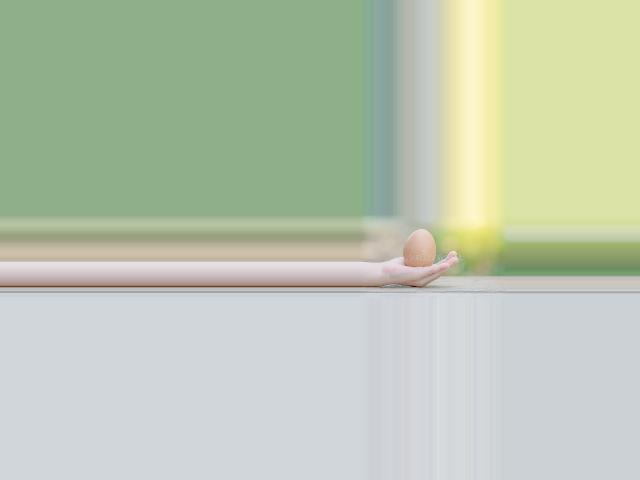egg: (401, 229, 435, 267)
